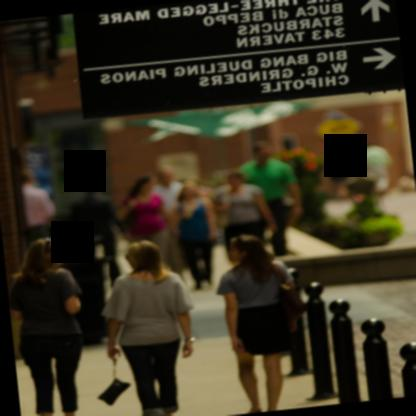handbag: (268, 260, 307, 340), (97, 361, 132, 406), (115, 205, 135, 230), (213, 207, 230, 228)
